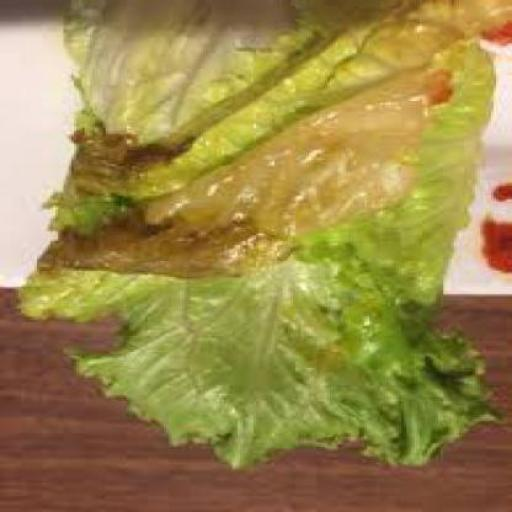biodegradable: (10, 2, 509, 472)
